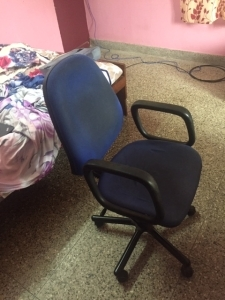chair: (43, 53, 202, 281)
